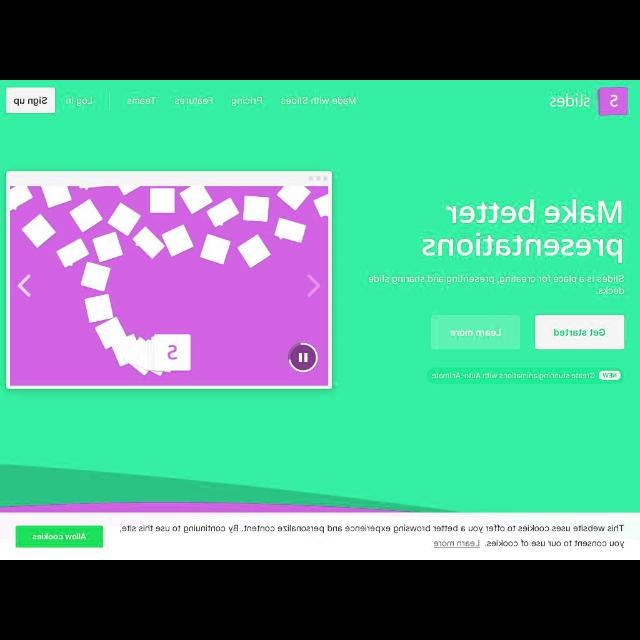button: (288, 342, 318, 372)
icon: (16, 272, 32, 298), (306, 274, 320, 298), (298, 353, 308, 363)
image: (6, 172, 332, 388), (550, 88, 628, 116)
multitab: (110, 82, 370, 118)
text: (420, 199, 624, 265), (119, 523, 626, 549), (368, 272, 624, 300), (432, 371, 594, 379), (280, 94, 356, 106), (230, 95, 264, 107), (174, 96, 214, 105), (65, 95, 93, 107), (126, 96, 158, 104), (602, 372, 616, 378)
textbutton: (535, 314, 625, 350), (430, 316, 520, 350), (16, 526, 102, 548), (6, 88, 54, 114)
